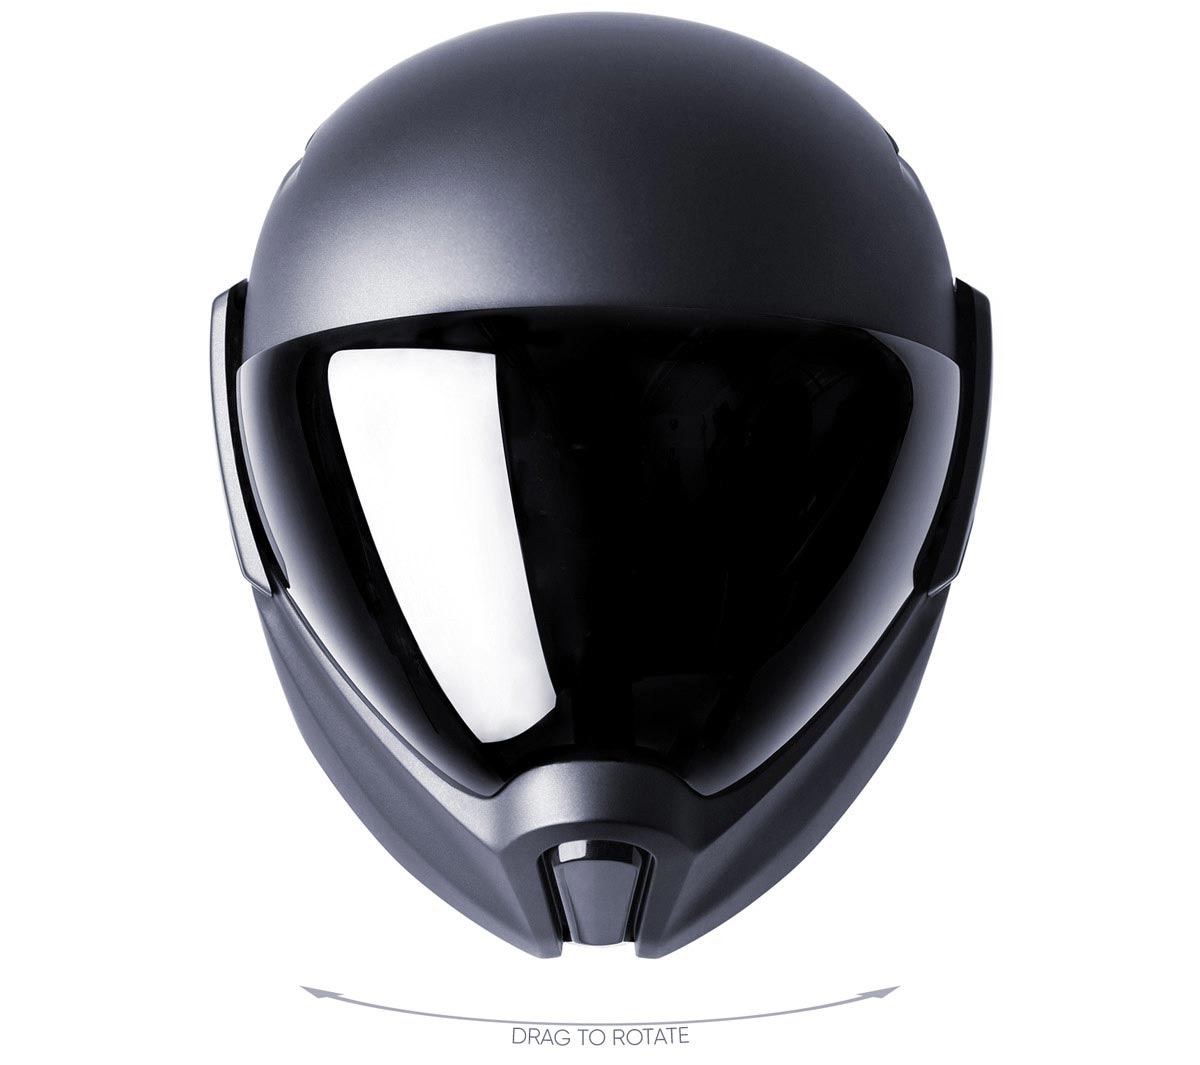with_helmet: (196, 6, 1098, 966)
